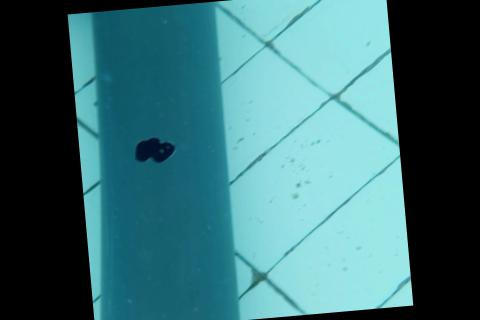kebocoran: (132, 134, 179, 166)
